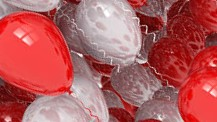Balloon: (1, 12, 72, 96), (72, 1, 142, 67), (177, 71, 217, 122), (149, 37, 189, 81)
